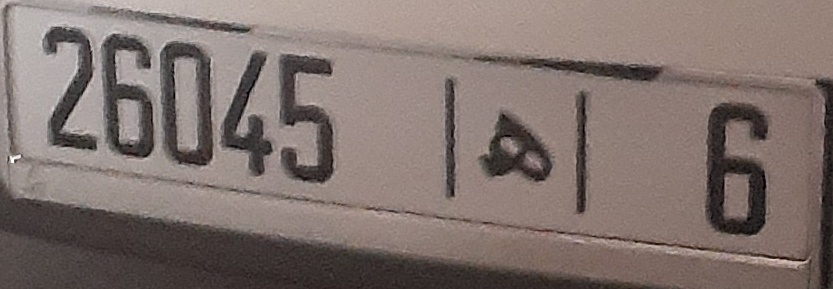0: (274, 48, 341, 193)
2: (698, 98, 778, 242)
4: (216, 49, 275, 180)
5: (157, 39, 220, 170)
6: (472, 104, 558, 191), (39, 25, 95, 154)
h: (97, 30, 159, 161)
